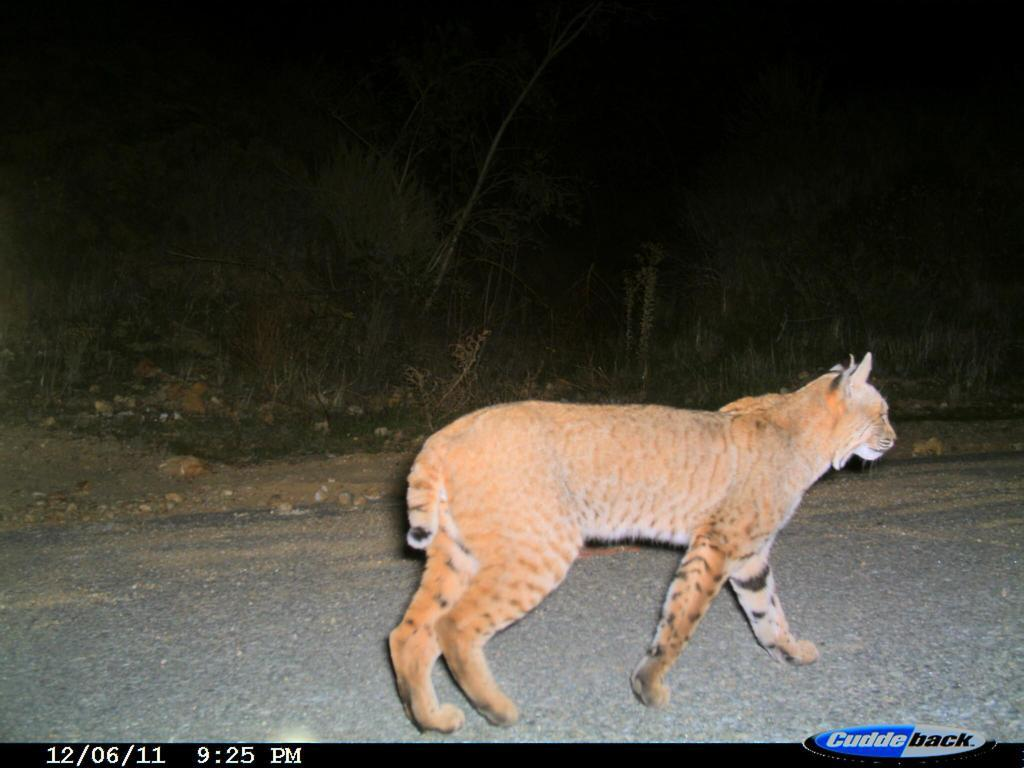bobcat: (377, 345, 907, 740)
